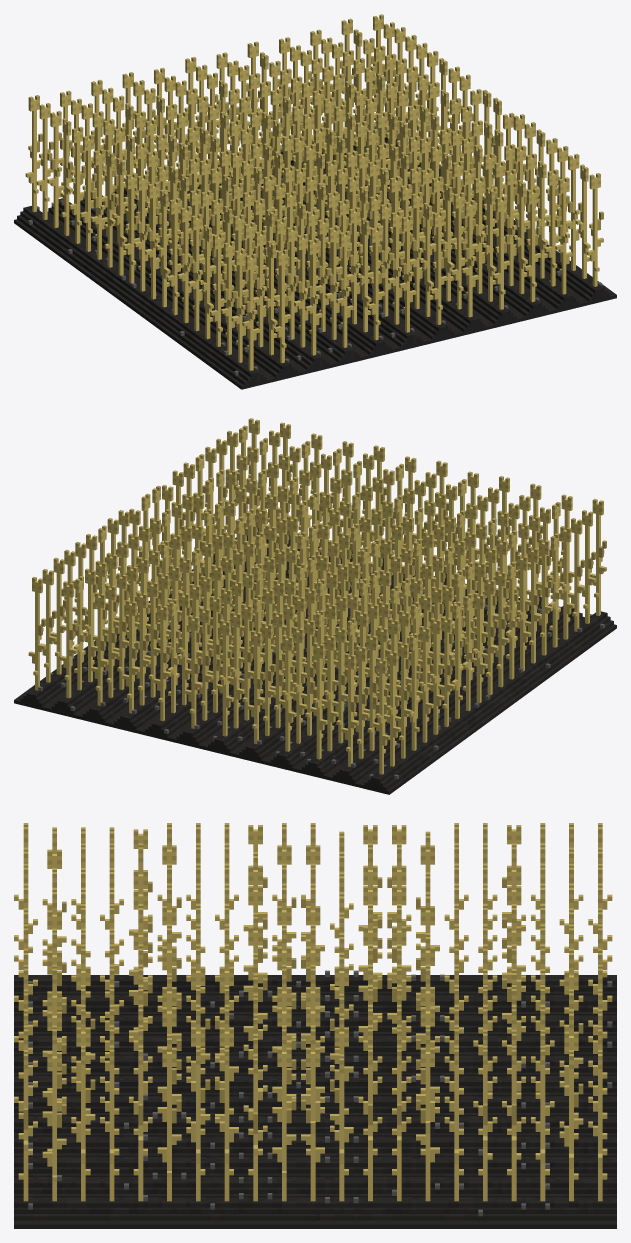
File: WheatField1.obj
The picture shows the model from 3 angles, top to bottom: view 1: azimuth 30°, elevation 25°; view 2: azimuth 150°, elevation 25°; view 3: azimuth 270°, elevation 25°; orthographic projection. The views are drawn at different scales.
Size of the model in its own units: 12 by 3.9 by 12.6.
Materials: 1 (1 with a texture image).
